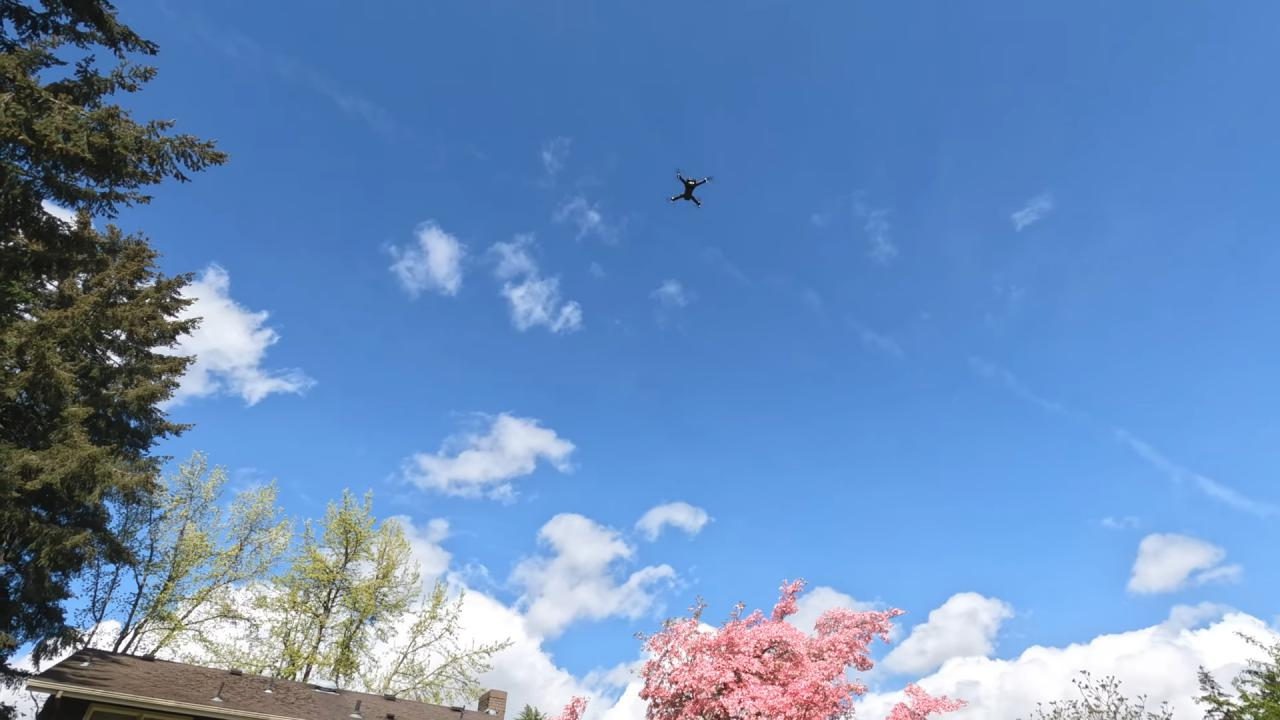Drone: (661, 162, 722, 217)
